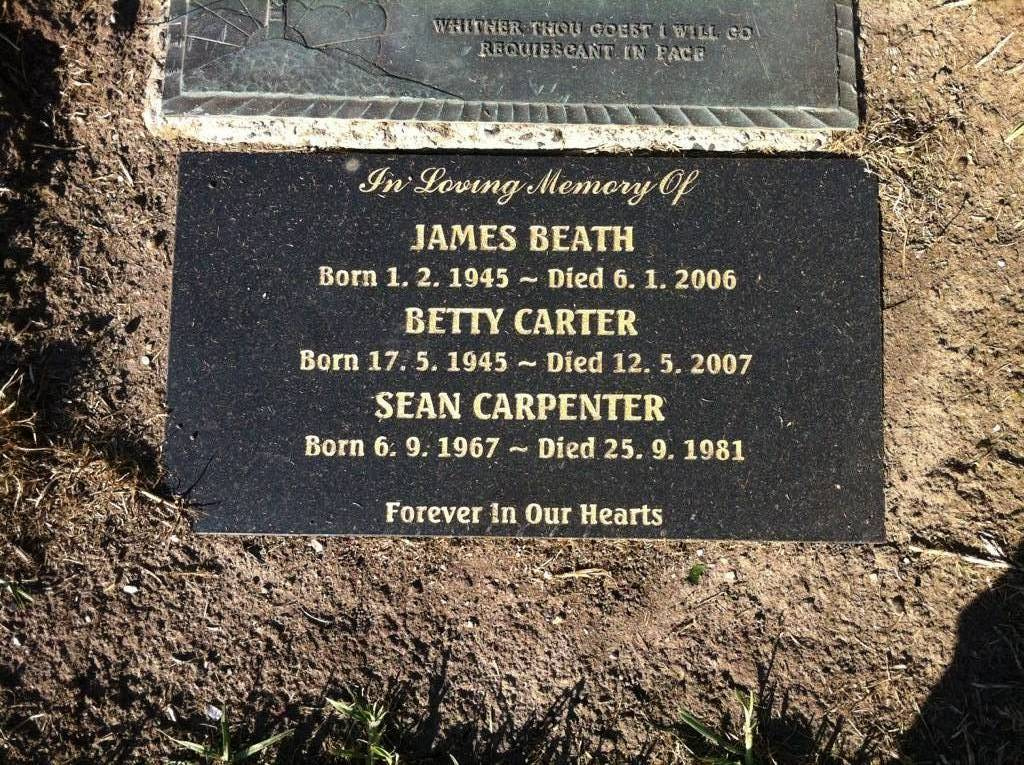flat: (166, 141, 765, 543)
